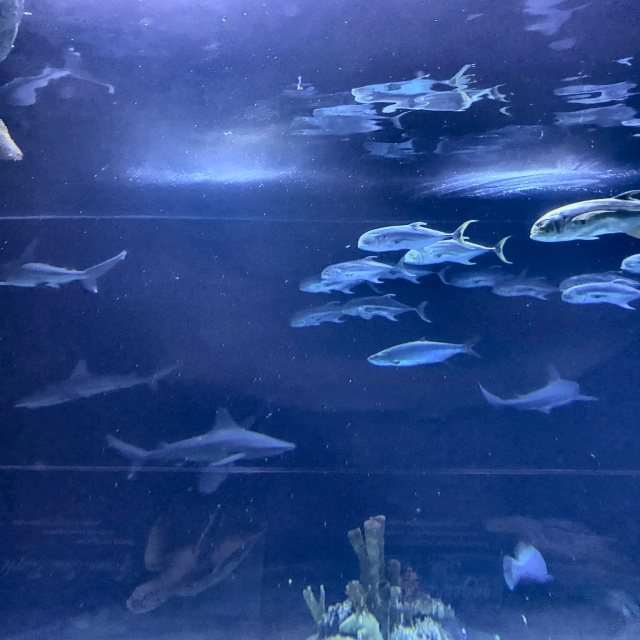fish: (530, 191, 639, 244), (357, 221, 472, 253), (403, 233, 512, 266), (366, 338, 480, 367), (321, 258, 418, 286), (343, 295, 430, 323), (500, 542, 550, 589), (560, 282, 639, 311), (292, 299, 361, 329), (442, 266, 524, 289), (492, 279, 563, 302), (304, 272, 355, 295), (620, 254, 639, 274)
shark: (109, 407, 292, 477), (15, 358, 182, 407), (0, 239, 125, 294), (478, 367, 597, 413)
